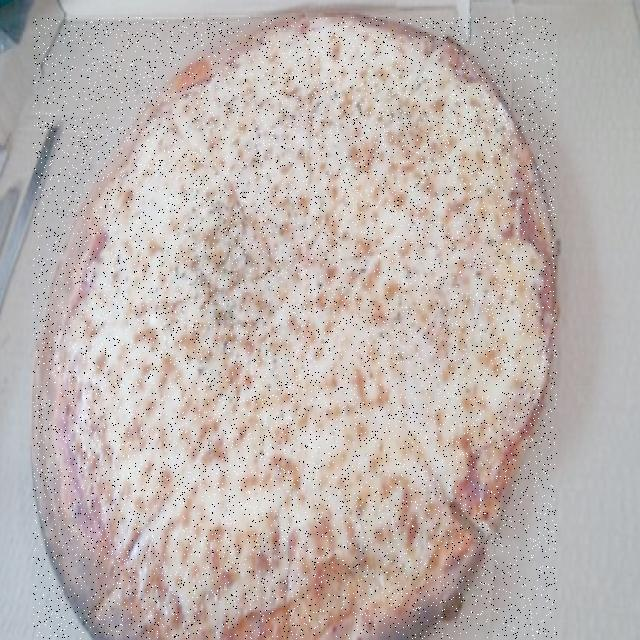Pizza: (33, 17, 557, 640)
